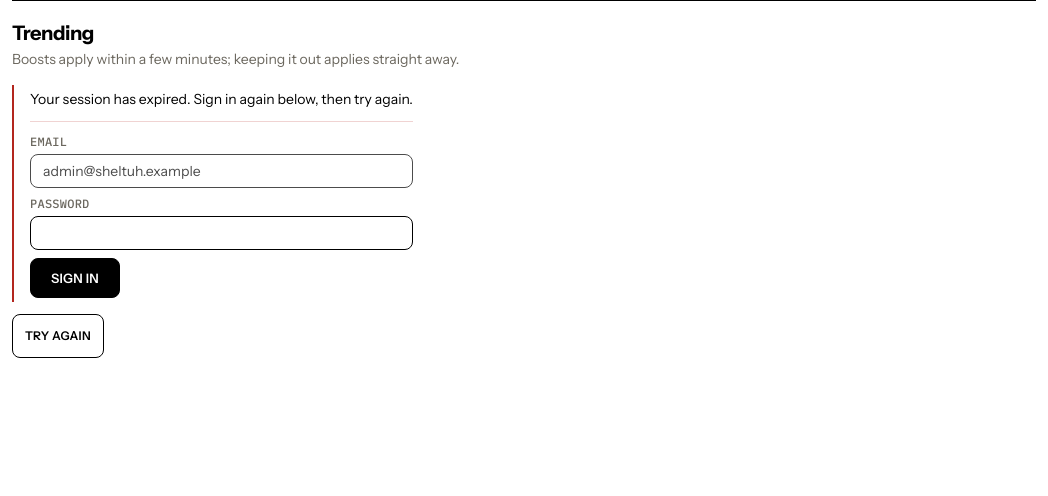
Test: TrendingPanel › an expired session while loading offers the sign-in form right there, then loads
Expected: the text "Your session has expired. Sign in again below, then try again." is shown, [30,89,413,109]
Expected: the field labelled "Email" holds "admin@sheltuh.example", [30,154,413,188]
Type "pw" into the password field labelled "Password".
click(221, 233); type("pw")  # box [30,216,413,250]
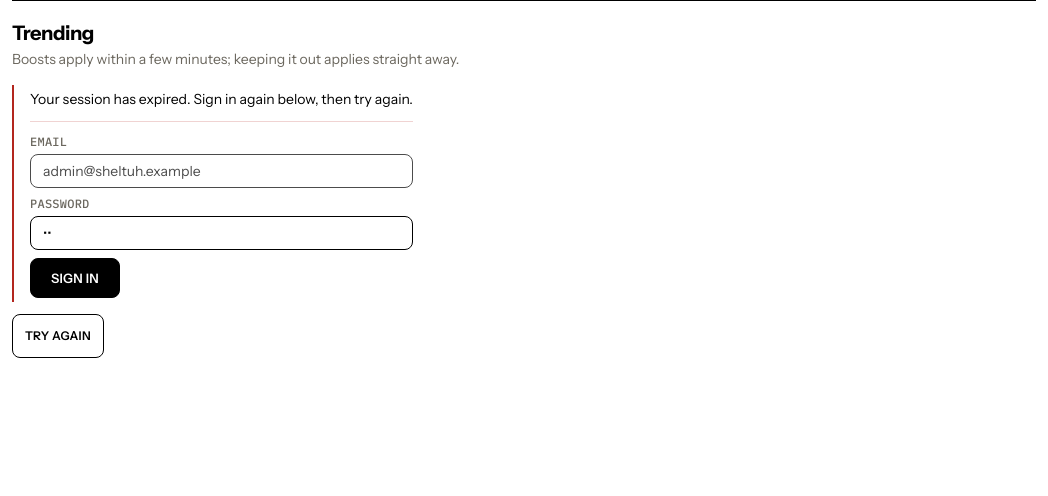
Click the button "Sign in".
click(75, 278)  # box [30,258,120,298]
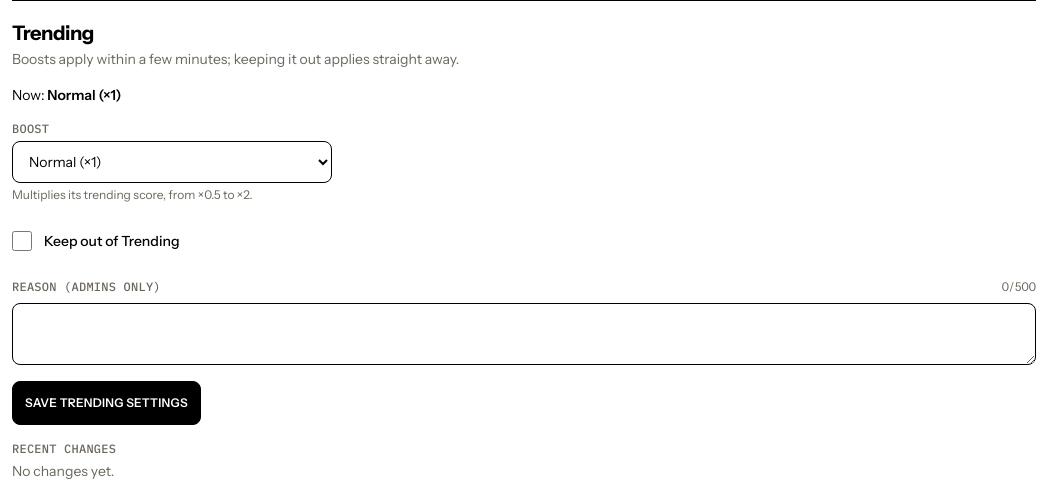
Expected: the text "Now: Normal (×1)" is shown, [12,86,122,104]
